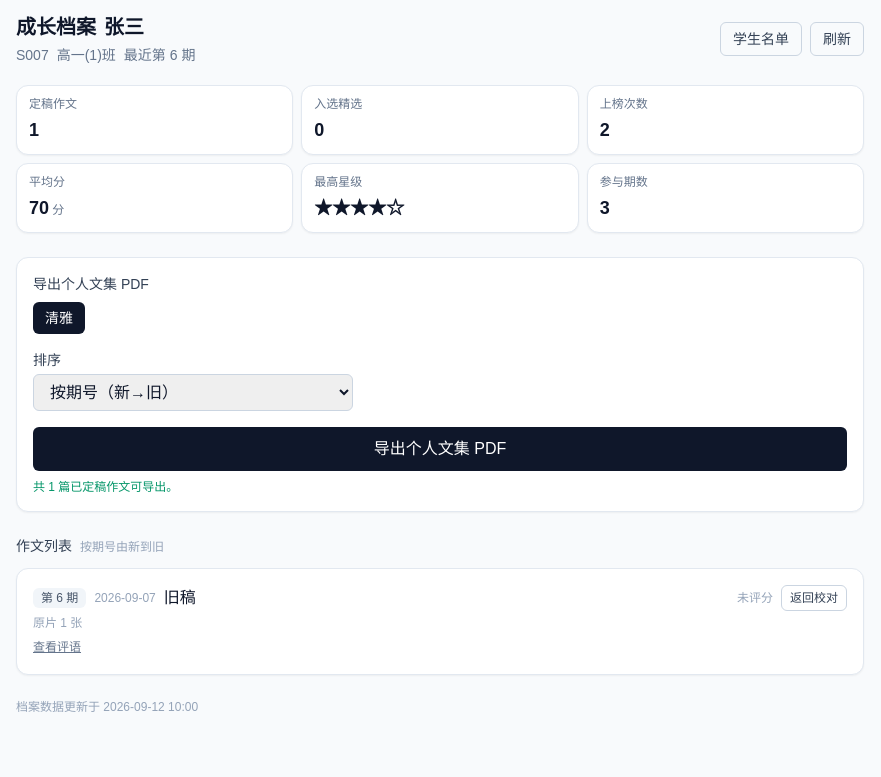
it: PortfolioPage › keeps comments collapsed until the teacher opens them
Click the button with test id "comment-toggle-13" at (57, 647), box [33,639,81,655]
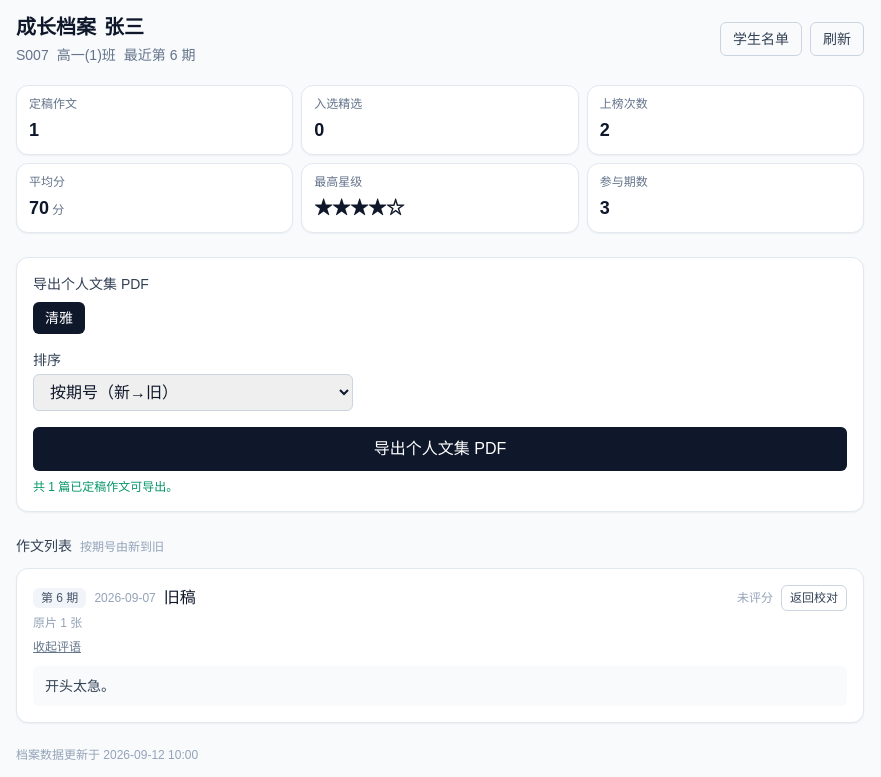
Expected: the text with test id "comment-13" reads "开头太急。", [45,678,115,694]
Click the button with test id "comment-toggle-13" at (57, 647), box [33,639,81,655]
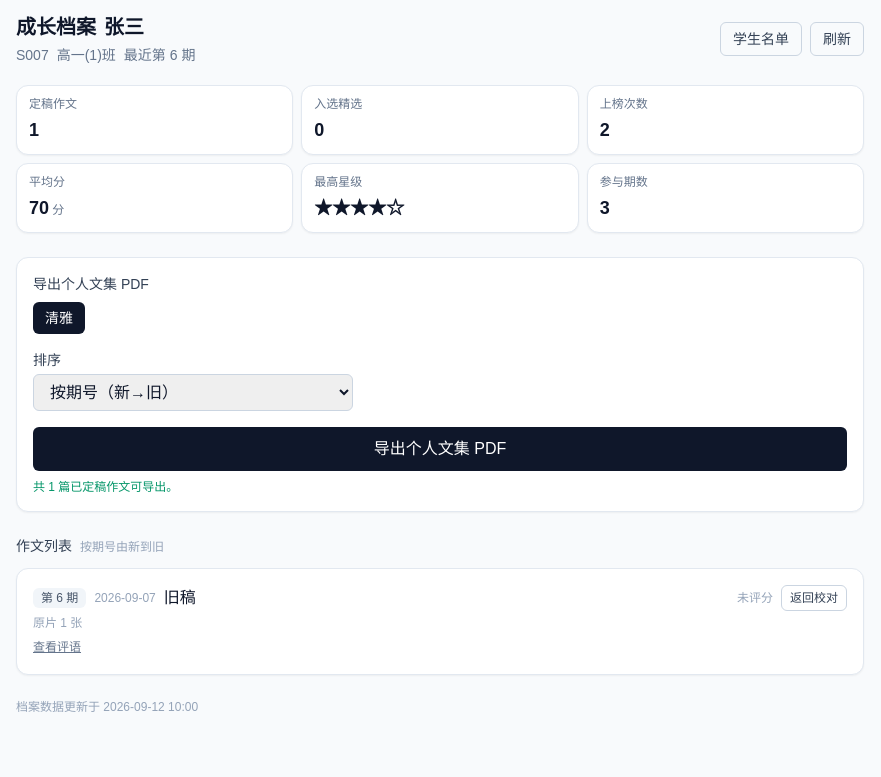
Expected: the text with test id "comment-13" is gone
